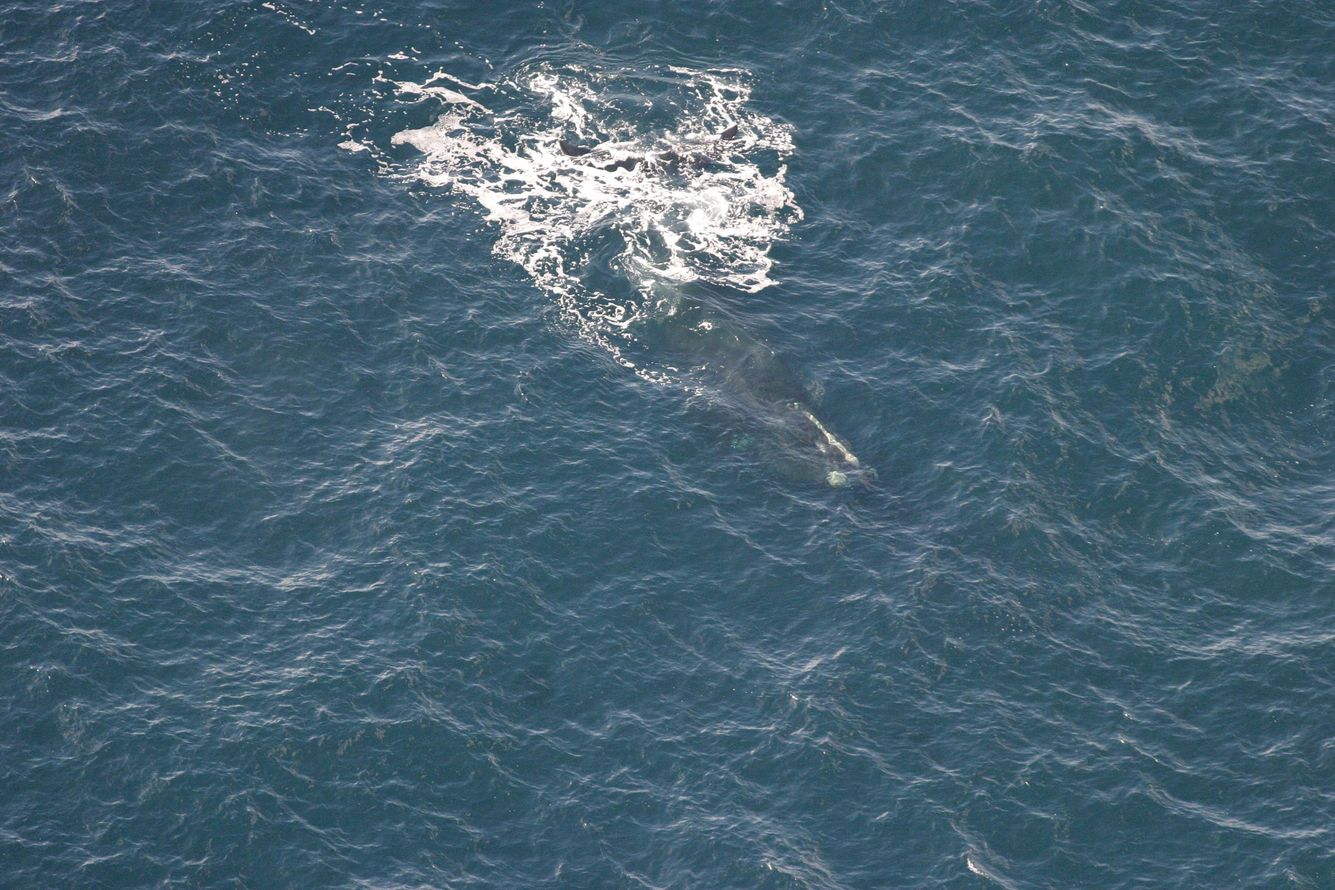whale: (546, 122, 913, 527)
